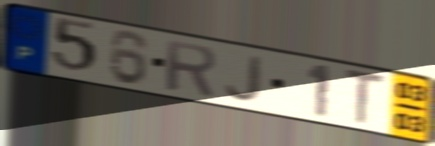1: (305, 63, 333, 121)
5: (50, 16, 100, 79)
6: (108, 28, 149, 87)
J: (224, 53, 266, 103)
R: (163, 37, 219, 99)
T: (343, 66, 388, 127)
